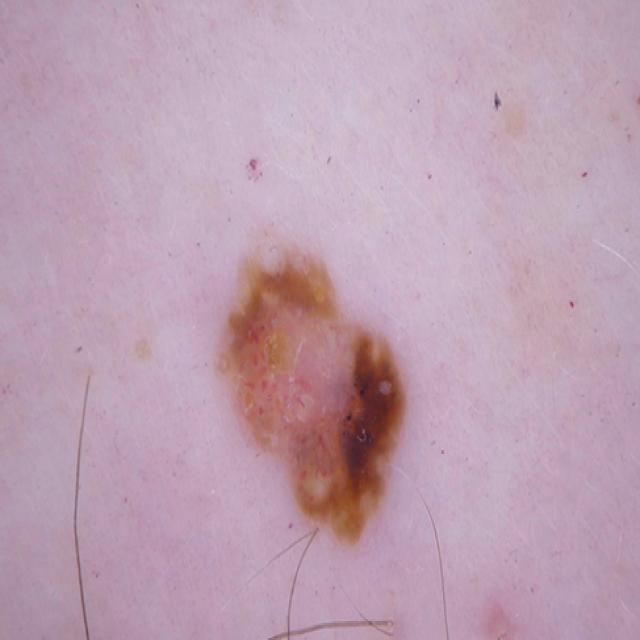Keratosis: (179, 230, 449, 578)
